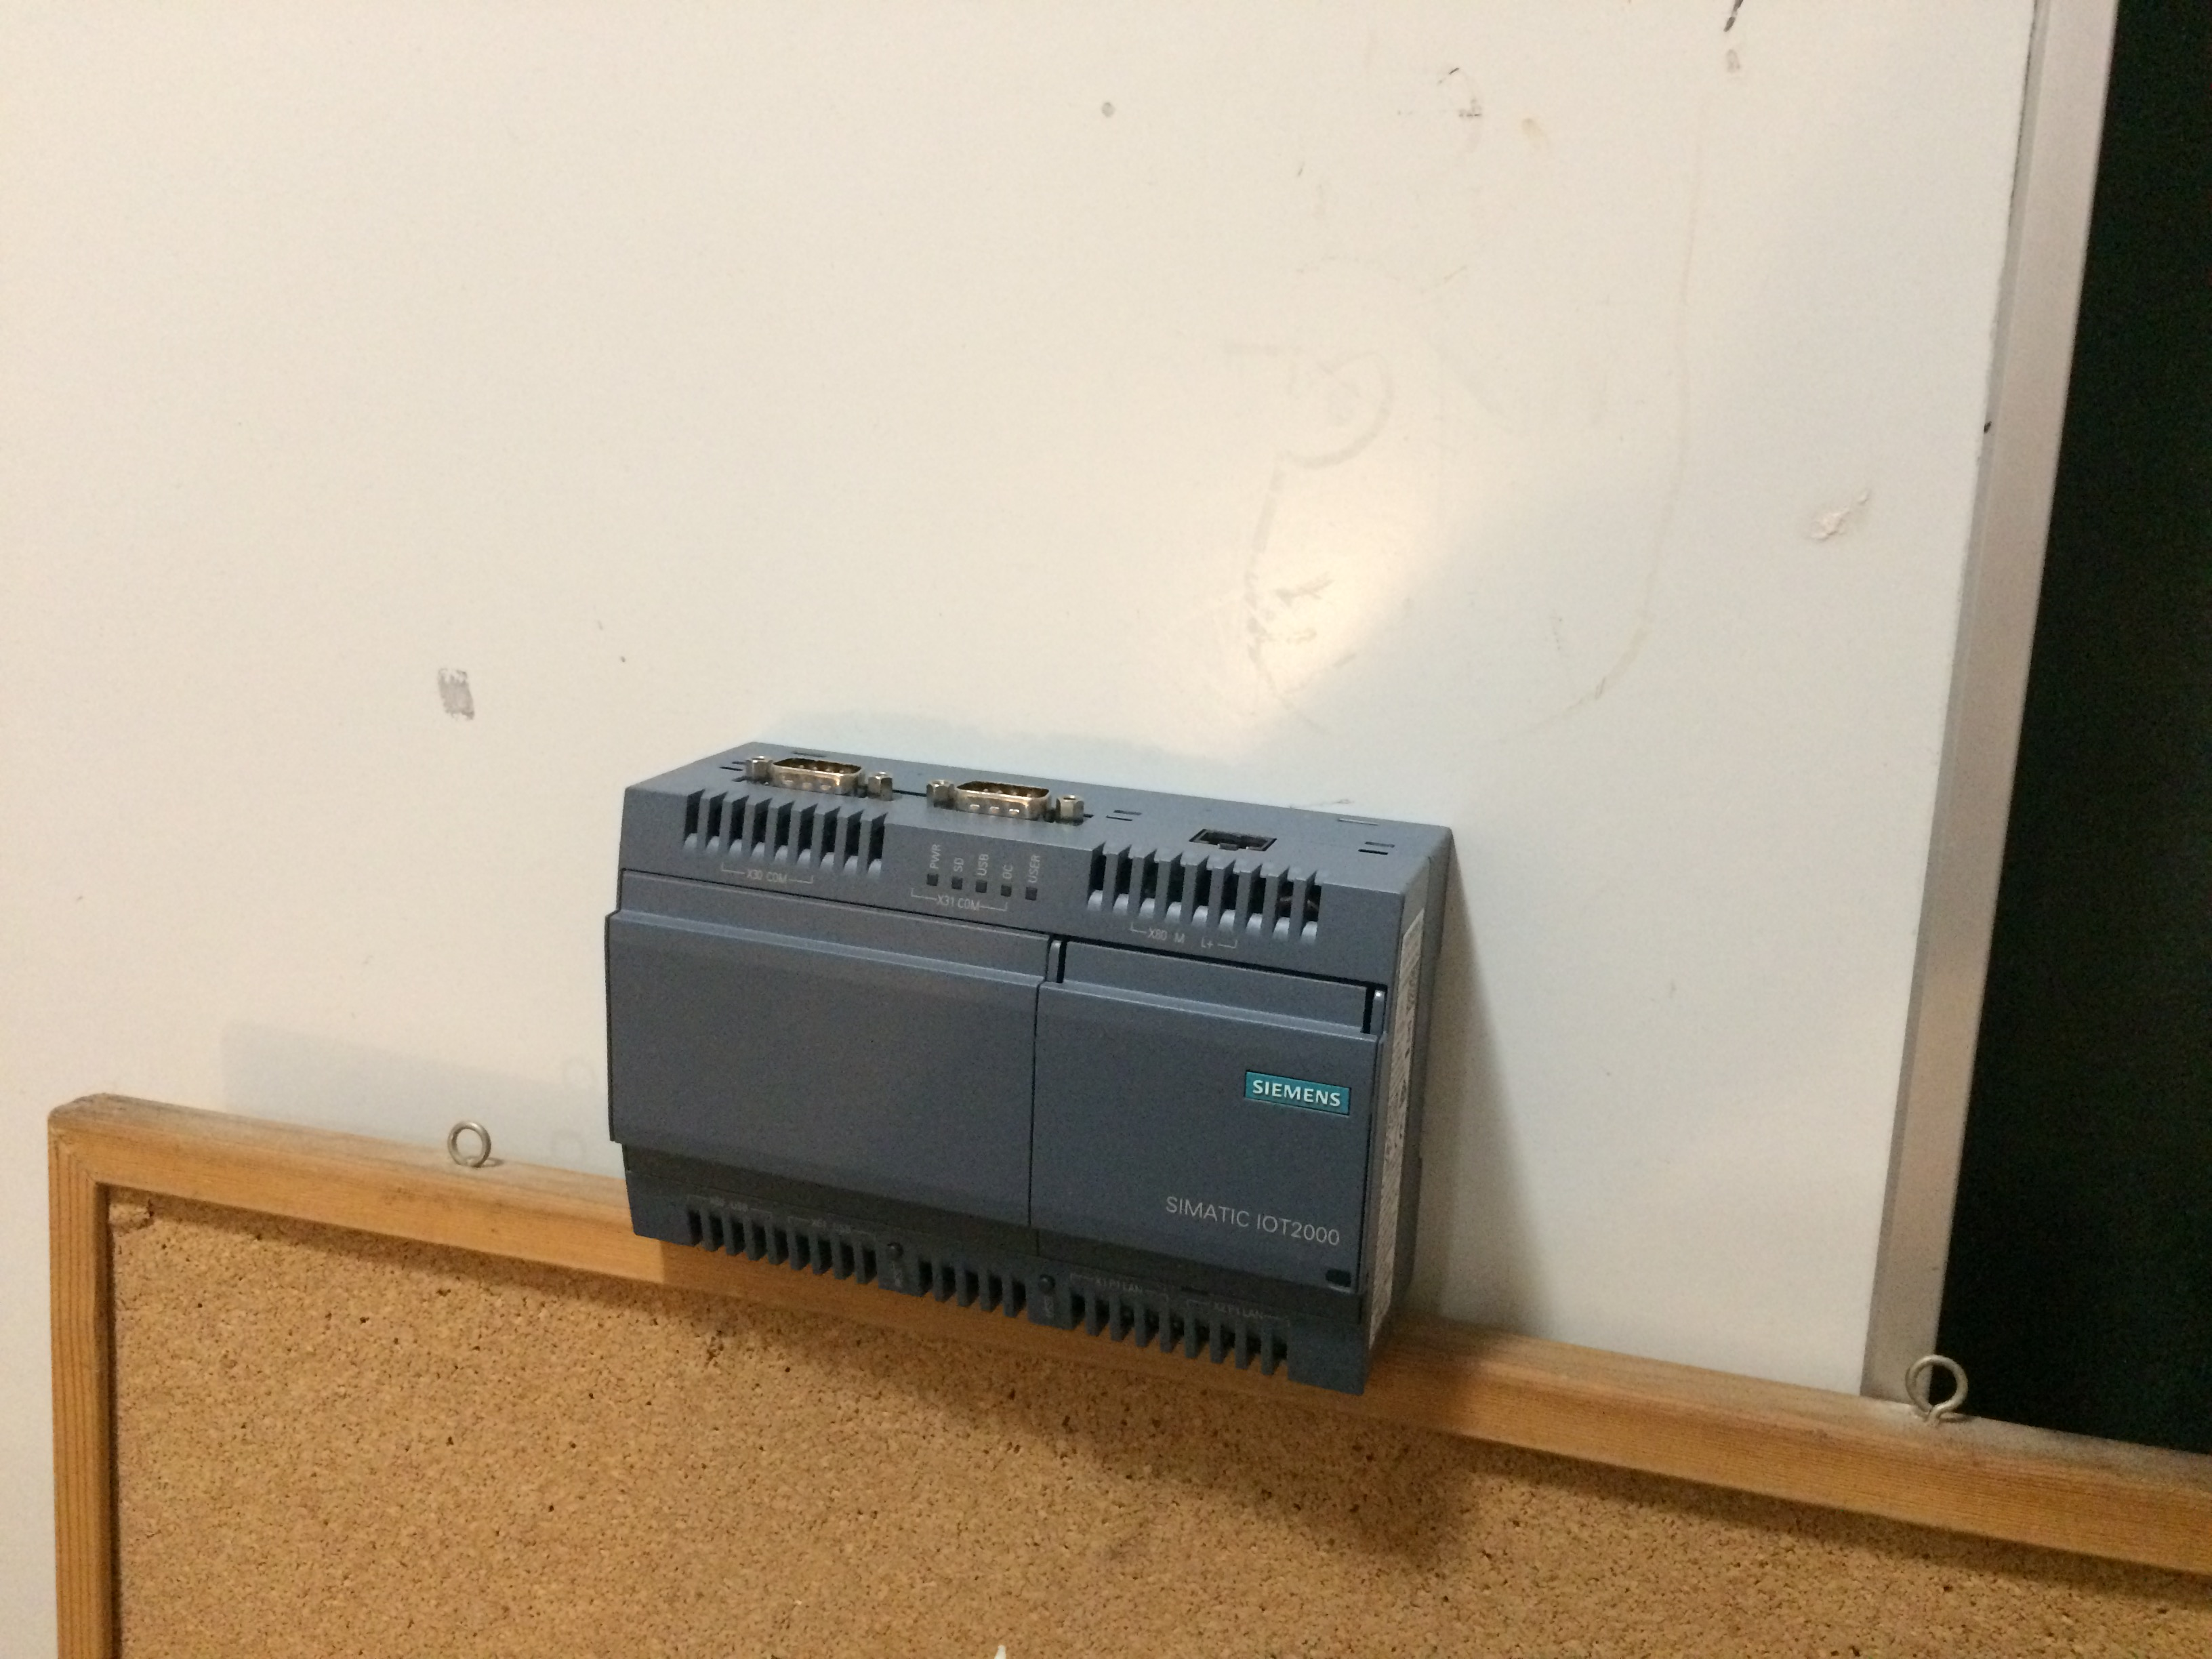iot2000: (601, 739, 1456, 1398)
